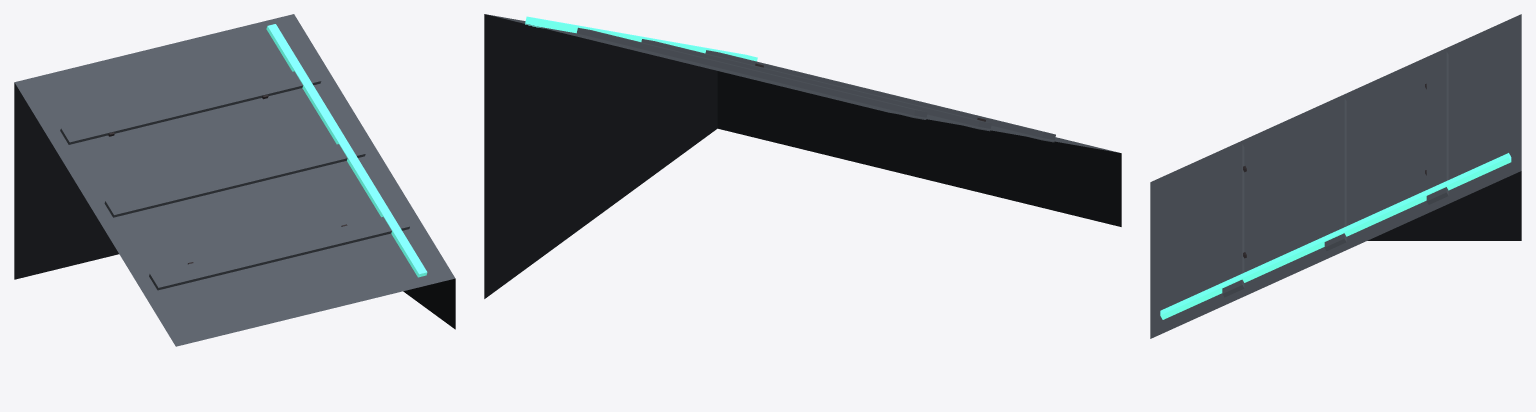
The model's file is SM_Terrain_Dvergr_08_Slope.glb.
3 views of the same model, side by side, from view 1: azimuth 30°, elevation 25°; view 2: azimuth 150°, elevation 25°; view 3: azimuth 270°, elevation 25° (orthographic). The views are drawn at different scales.
Visible parts, largest first — view 1: SM_Terrain_Dvergr_08_Slope_Ramp, SM_Terrain_Dvergr_08_Slope_Tread1, SM_Terrain_Dvergr_08_Slope_Tread0, SM_Terrain_Dvergr_08_Slope_Tread2, SM_Terrain_Dvergr_08_Slope_Conduit; view 2: SM_Terrain_Dvergr_08_Slope_Ramp, SM_Terrain_Dvergr_08_Slope_Tread2, SM_Terrain_Dvergr_08_Slope_Tread1, SM_Terrain_Dvergr_08_Slope_Tread0, SM_Terrain_Dvergr_08_Slope_Conduit; view 3: SM_Terrain_Dvergr_08_Slope_Ramp, SM_Terrain_Dvergr_08_Slope_Conduit, SM_Terrain_Dvergr_08_Slope_Tread1, SM_Terrain_Dvergr_08_Slope_Tread2, SM_Terrain_Dvergr_08_Slope_Tread0.
Boxes of the visible parts, box(x1,y1,x2,y2) form: SM_Terrain_Dvergr_08_Slope_Ramp: box(14, 14, 455, 346); SM_Terrain_Dvergr_08_Slope_Tread1: box(104, 139, 365, 217); SM_Terrain_Dvergr_08_Slope_Tread0: box(149, 212, 409, 290); SM_Terrain_Dvergr_08_Slope_Tread2: box(60, 67, 321, 144); SM_Terrain_Dvergr_08_Slope_Conduit: box(266, 24, 427, 277); SM_Terrain_Dvergr_08_Slope_Ramp: box(484, 14, 1121, 298); SM_Terrain_Dvergr_08_Slope_Tread2: box(577, 27, 927, 119); SM_Terrain_Dvergr_08_Slope_Tread1: box(641, 39, 991, 131); SM_Terrain_Dvergr_08_Slope_Tread0: box(705, 50, 1055, 142); SM_Terrain_Dvergr_08_Slope_Conduit: box(525, 16, 757, 61); SM_Terrain_Dvergr_08_Slope_Ramp: box(1150, 14, 1521, 338); SM_Terrain_Dvergr_08_Slope_Conduit: box(1160, 153, 1511, 319); SM_Terrain_Dvergr_08_Slope_Tread1: box(1324, 97, 1346, 250); SM_Terrain_Dvergr_08_Slope_Tread2: box(1426, 51, 1448, 204); SM_Terrain_Dvergr_08_Slope_Tread0: box(1222, 144, 1244, 297).
Bounding box in the file's own units: 2 × 1.35 × 2.
